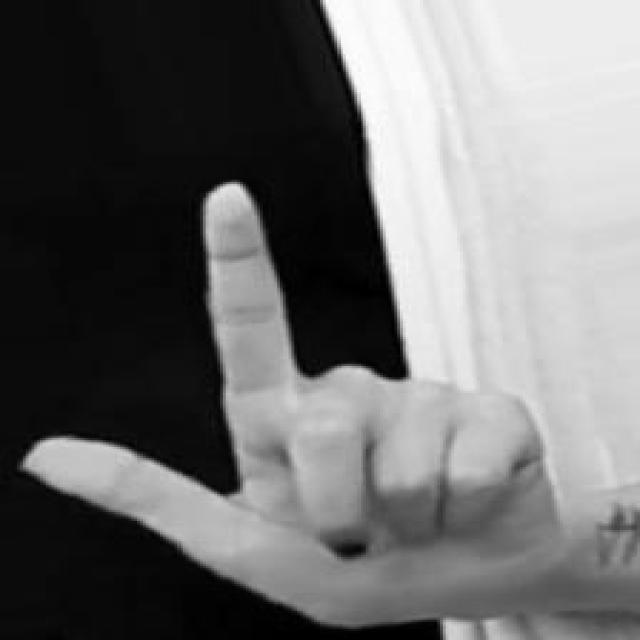L: (15, 176, 567, 640)
